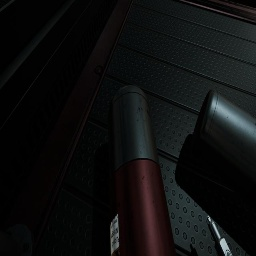0: (207, 216, 233, 256)
NitrogenTank ,: (108, 85, 177, 256), (190, 89, 256, 211)
